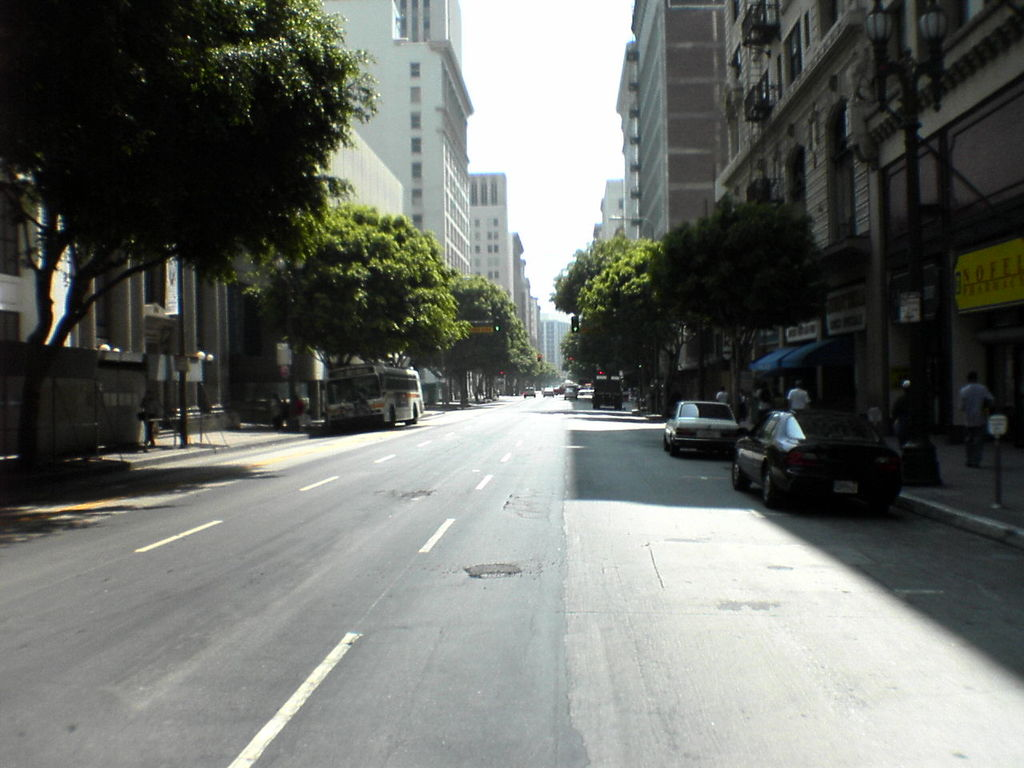Car: (729, 407, 903, 507), (659, 401, 743, 463), (521, 386, 537, 398), (542, 385, 551, 397)
